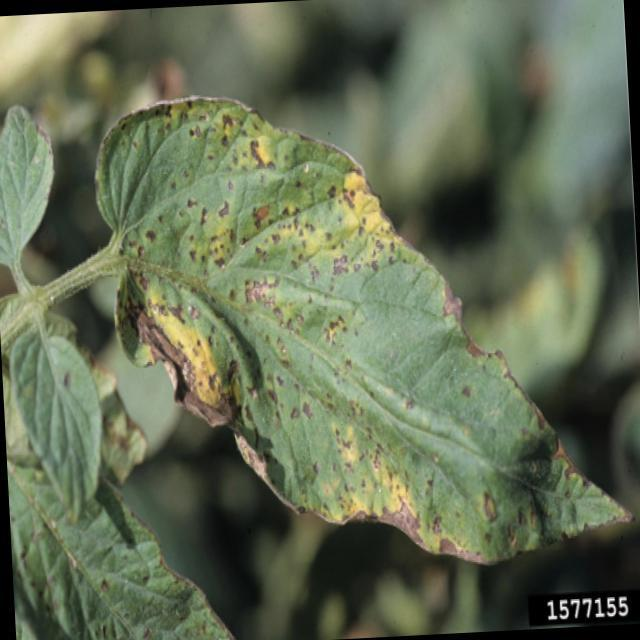Bacterial Spot: (101, 67, 435, 559)
